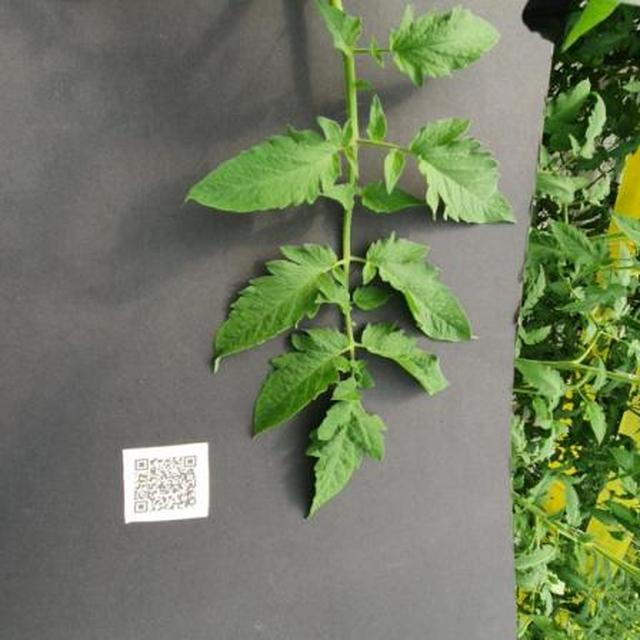Healthy Leaf: (121, 65, 640, 640)
